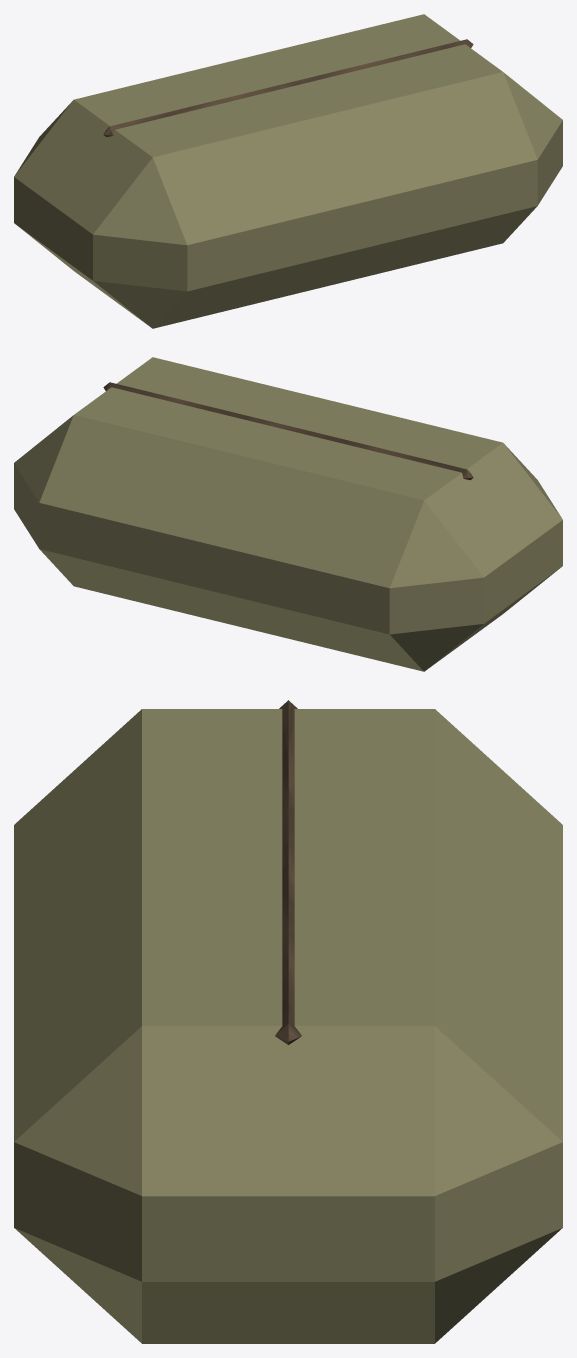
Rendered from sandbag.glb.
3 views of the same model, one above another, from view 1: azimuth 30°, elevation 25°; view 2: azimuth 150°, elevation 25°; view 3: azimuth 270°, elevation 25° (orthographic). The views are drawn at different scales.
Visible parts, largest first — view 1: sandbag__Olive_canvas, sandbag__Dark_endgrain; view 2: sandbag__Olive_canvas, sandbag__Dark_endgrain; view 3: sandbag__Olive_canvas, sandbag__Dark_endgrain.
Boxes of the visible parts, x1,y1,x2,y2 form: sandbag__Olive_canvas: [14, 14, 562, 328]; sandbag__Dark_endgrain: [103, 39, 473, 137]; sandbag__Olive_canvas: [14, 357, 562, 671]; sandbag__Dark_endgrain: [103, 382, 473, 480]; sandbag__Olive_canvas: [14, 709, 562, 1343]; sandbag__Dark_endgrain: [275, 700, 301, 1044].
Bounding box in the file's own units: 0.33 × 0.117 × 0.18.
2 materials, 1 textured.
